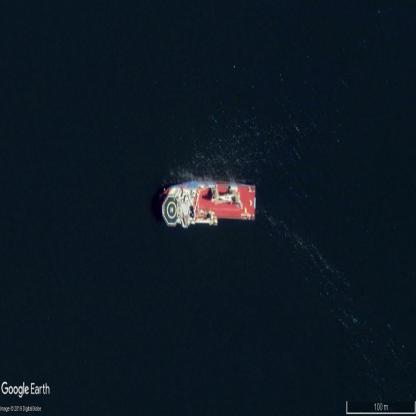ship: (163, 182, 256, 225)
